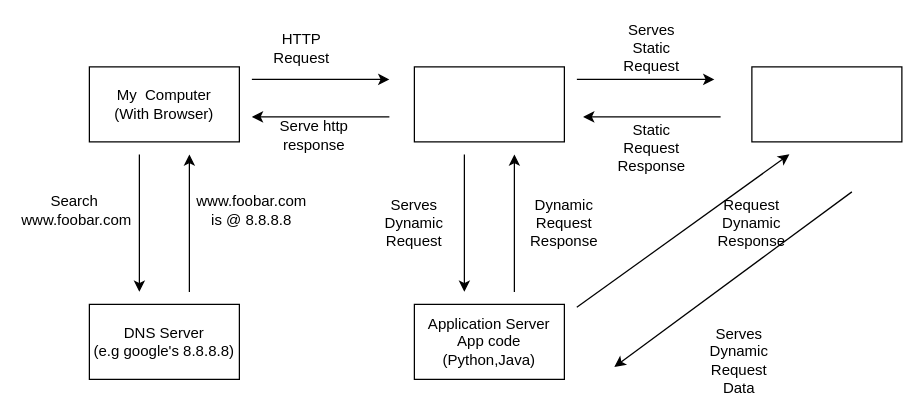
Some shapes in this 924 by 419 pixel diagram are drawn without their labels. Here are the shapes that lost their labels. From the top down, the box of each, then its label:
(413, 66, 564, 142): Web Server (NGINX)
(751, 66, 902, 142): Database Request
